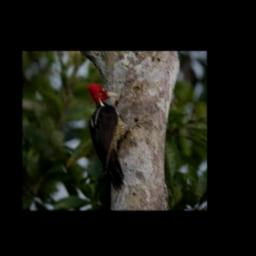Woodpecker: (87, 83, 149, 191)
